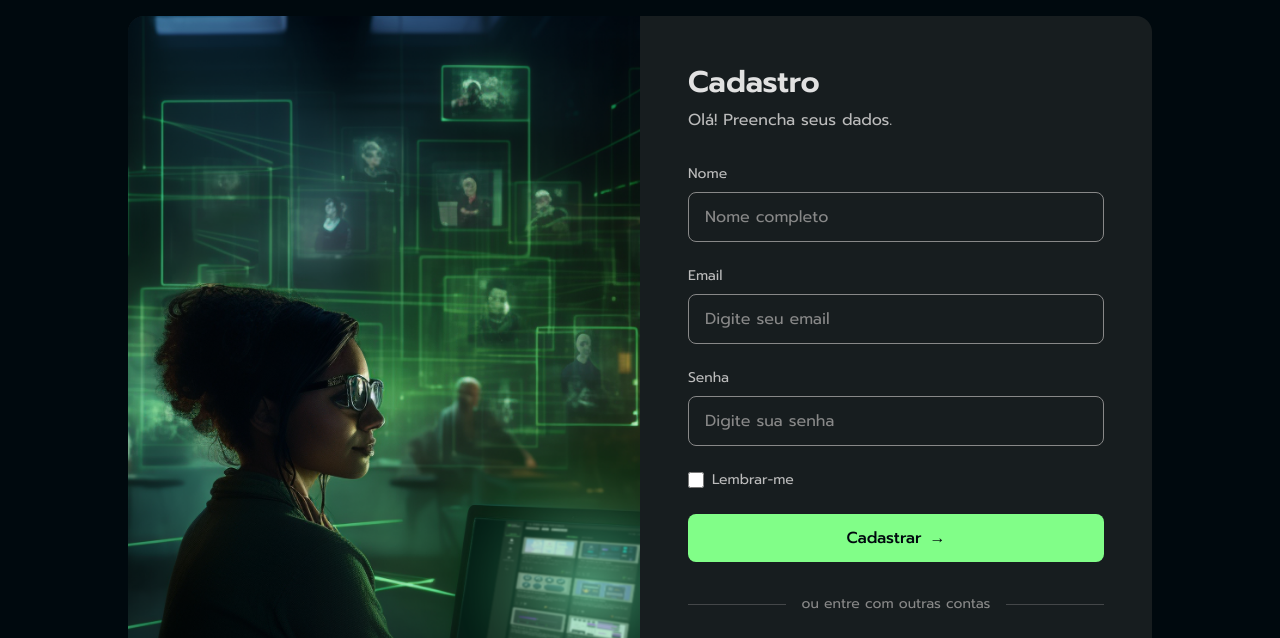
RegisterPage › shows an error when the email is already registered
The image size is (1280, 638).
Step 1. Type "Ana Silva" into the field labelled "Nome" → (896, 217), box [688, 192, 1104, 242]
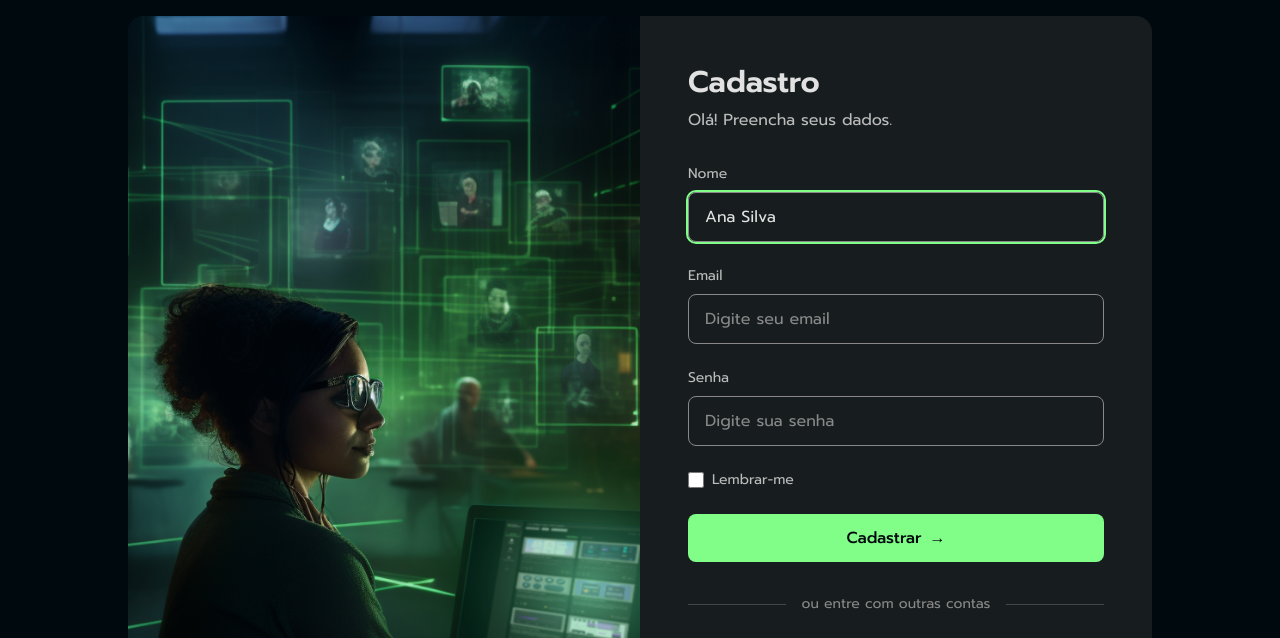
Step 2. Type "ana@code.com" into the field labelled "Email" → (896, 319), box [688, 294, 1104, 344]
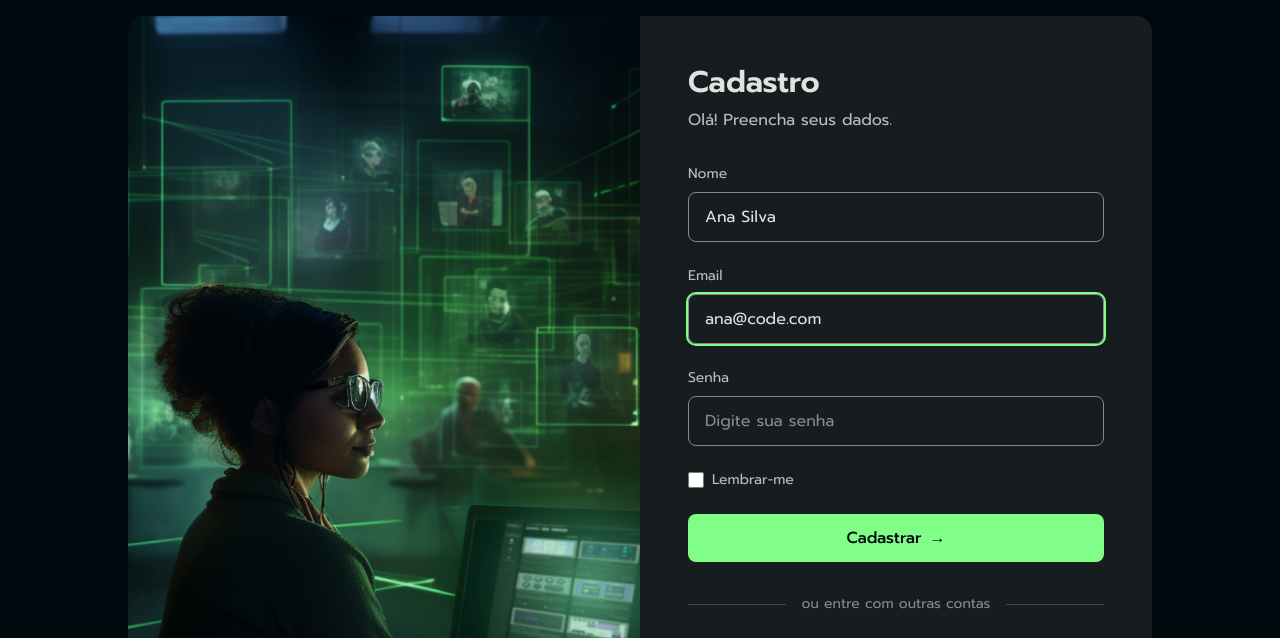
Step 3. Type "segredo123" into the password field labelled "Senha" → (896, 421), box [688, 396, 1104, 446]
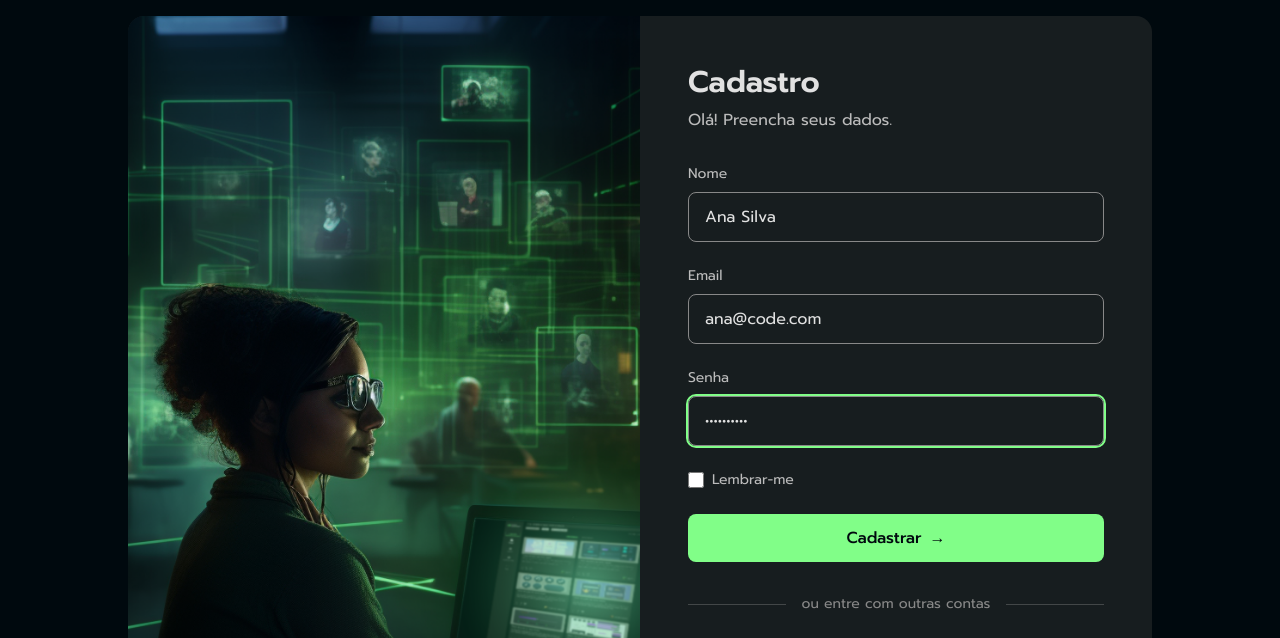
Step 4. Click the button "Cadastrar →" → (896, 538), box [688, 514, 1104, 562]
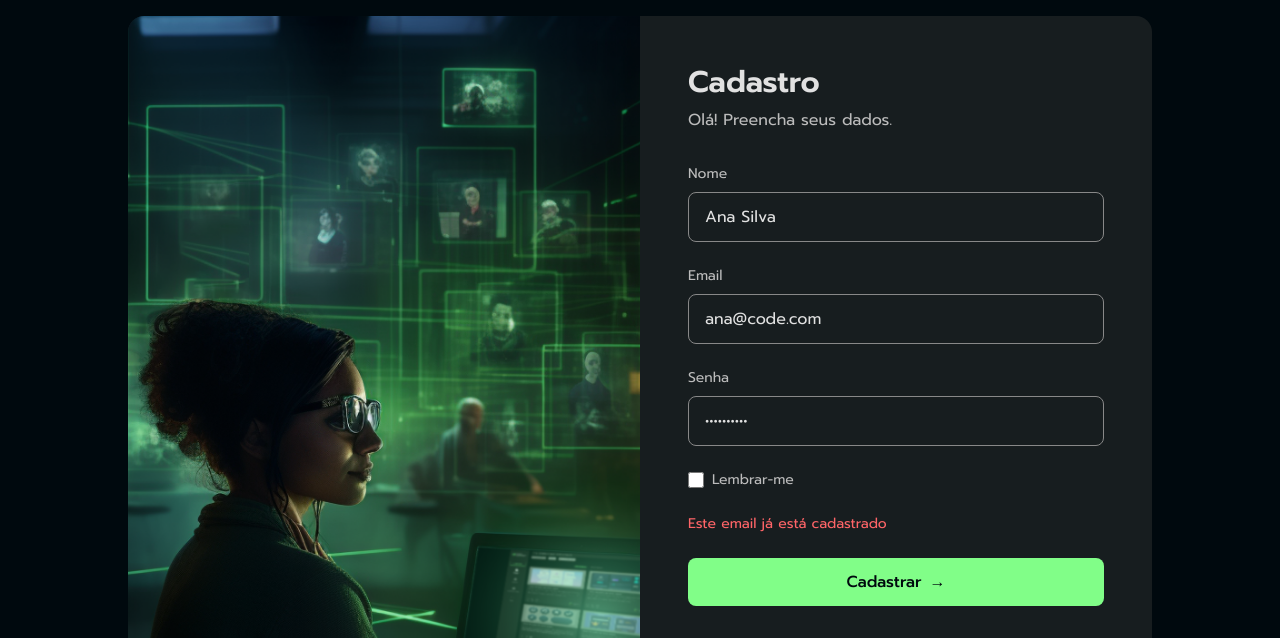
Result: the message reads "Este email já está cadastrado" at [688, 513, 887, 534]
